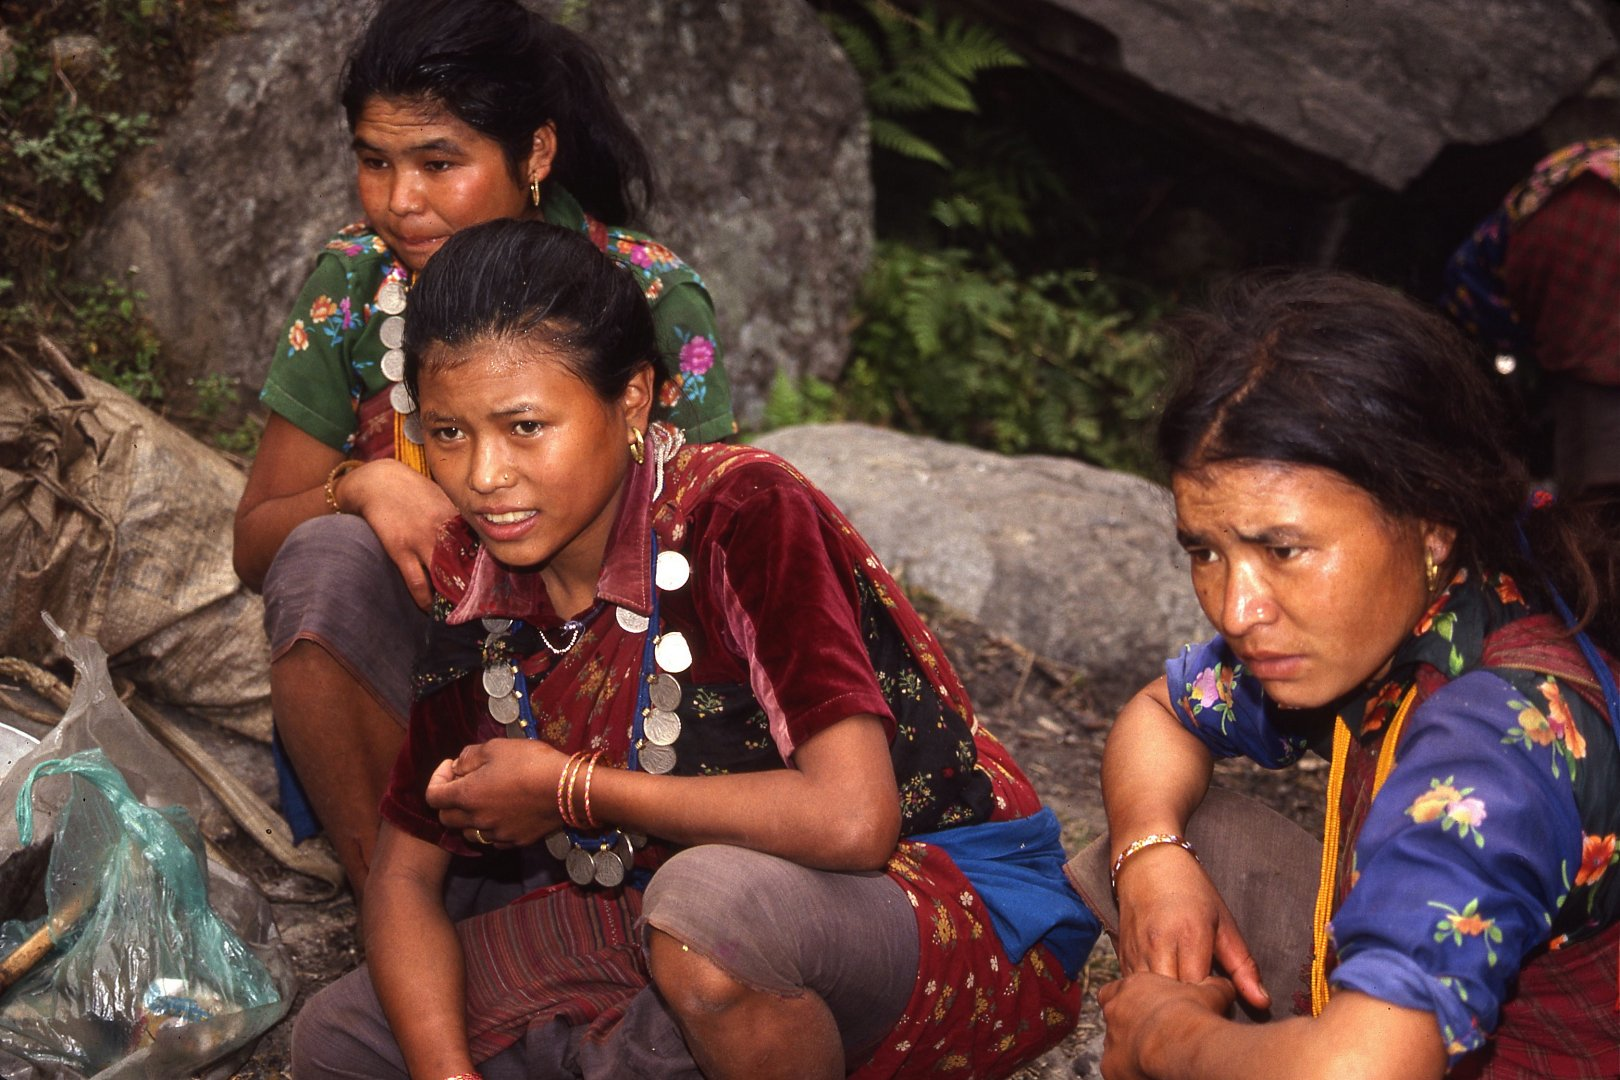human: (276, 219, 1105, 1080), (123, 5, 854, 660), (1069, 248, 1620, 1080)
